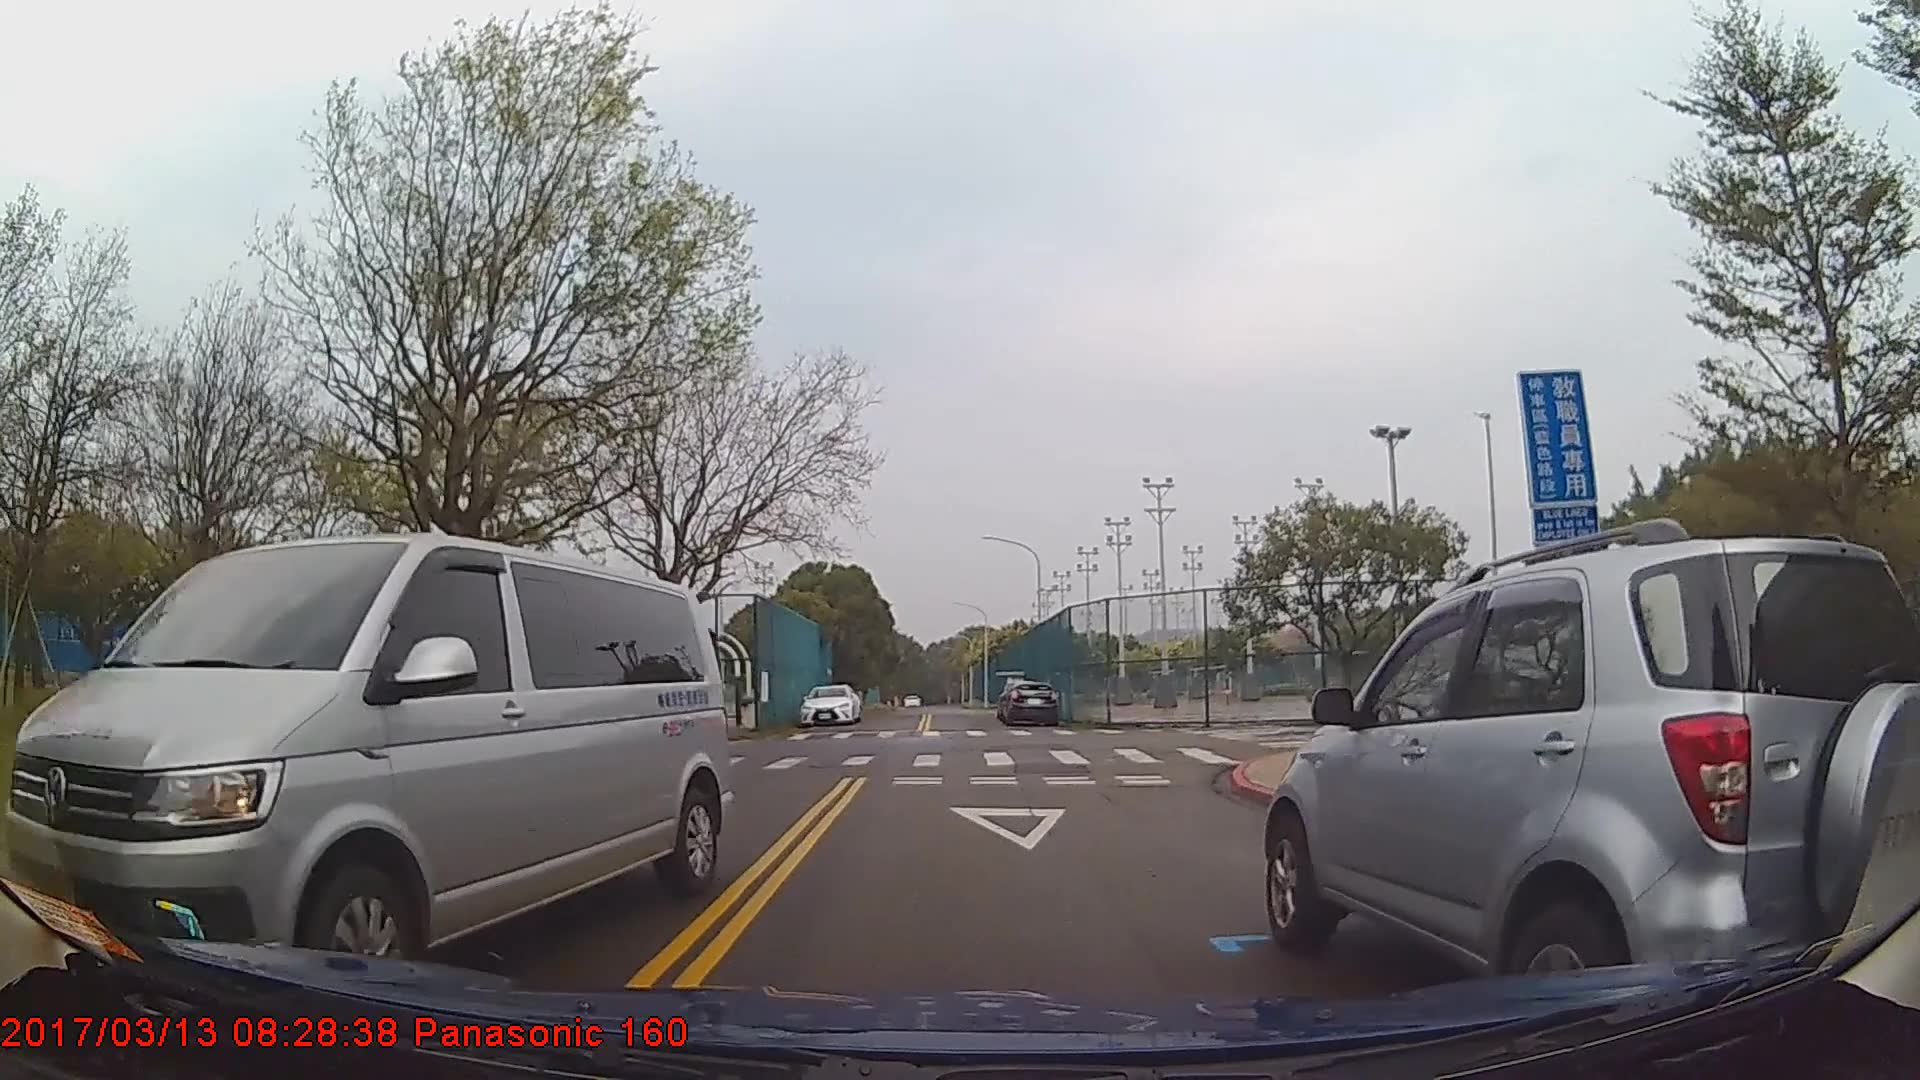vehicle: (0, 527, 731, 997), (1262, 534, 1920, 1040), (796, 682, 860, 727), (1002, 680, 1058, 728)
